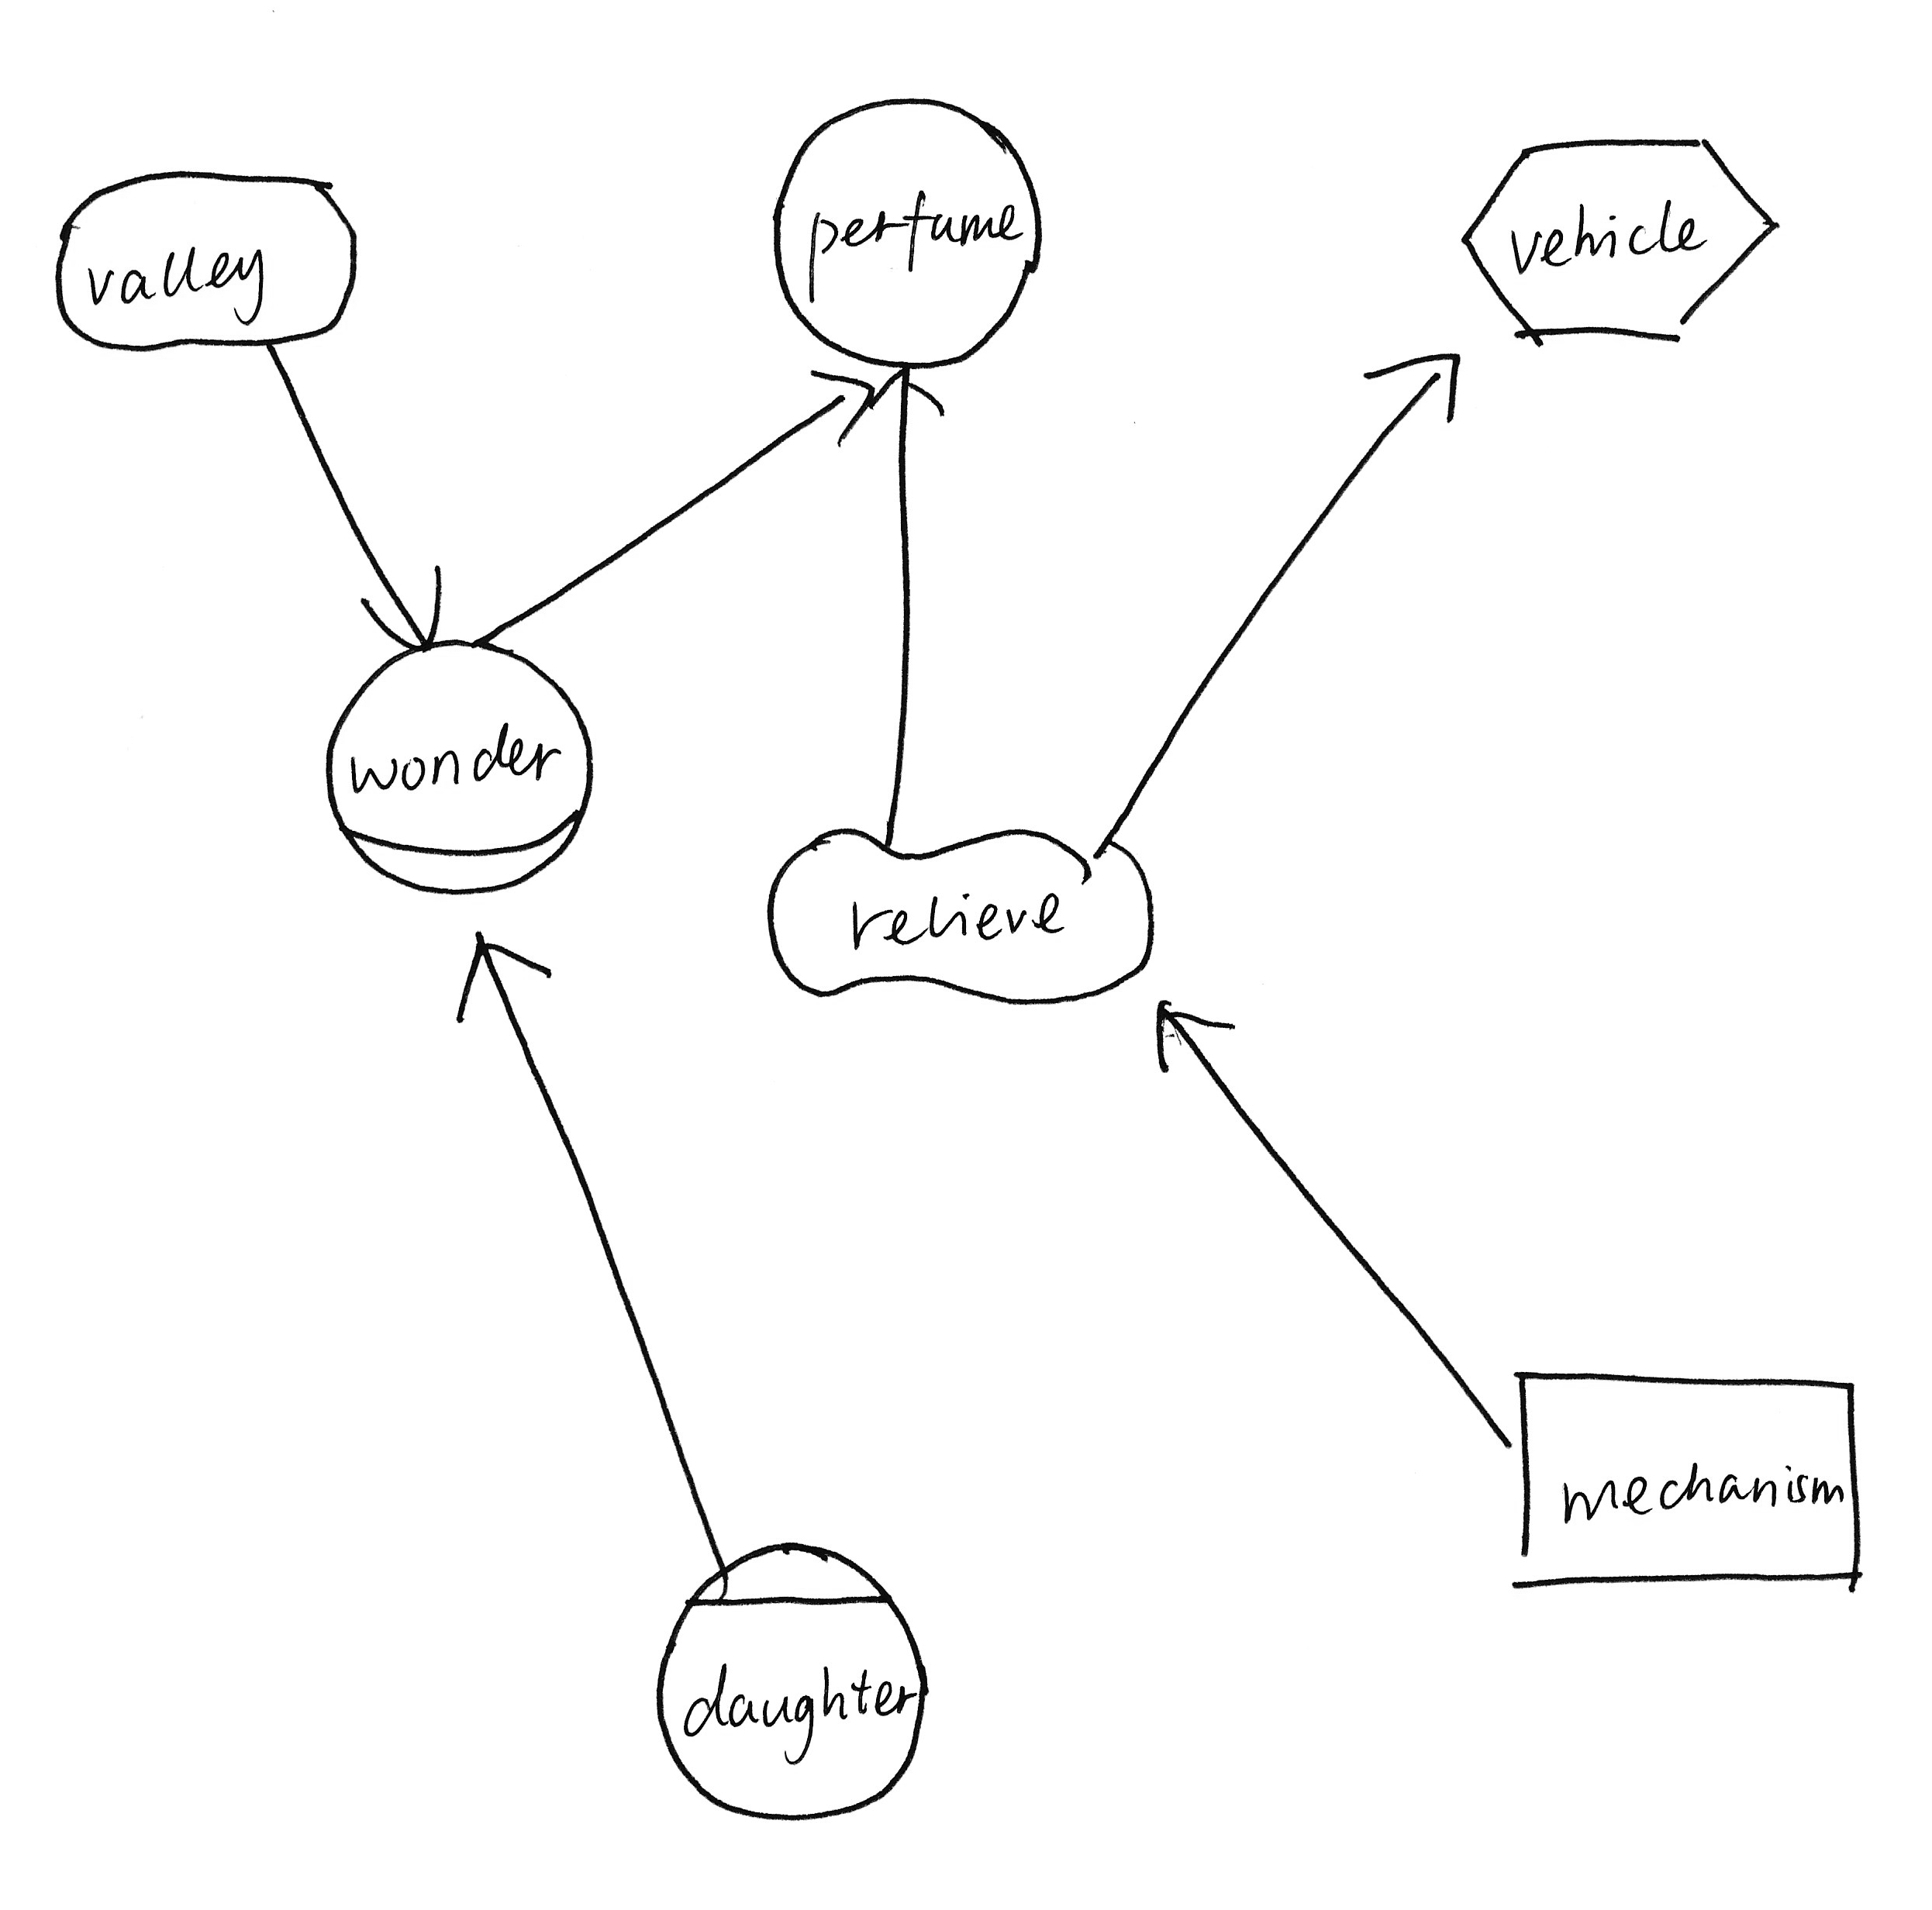actor: (752, 84, 1055, 381)
agent: (640, 1525, 945, 1835)
arrow: (443, 911, 572, 1035), (1346, 332, 1473, 434), (789, 357, 886, 484), (348, 554, 457, 663), (1136, 995, 1246, 1083), (858, 357, 969, 437)
goal: (37, 157, 371, 369)
quality: (751, 810, 1167, 1028)
resource: (1487, 1345, 1888, 1620)
role: (306, 628, 609, 910)
task: (1438, 117, 1794, 360)
